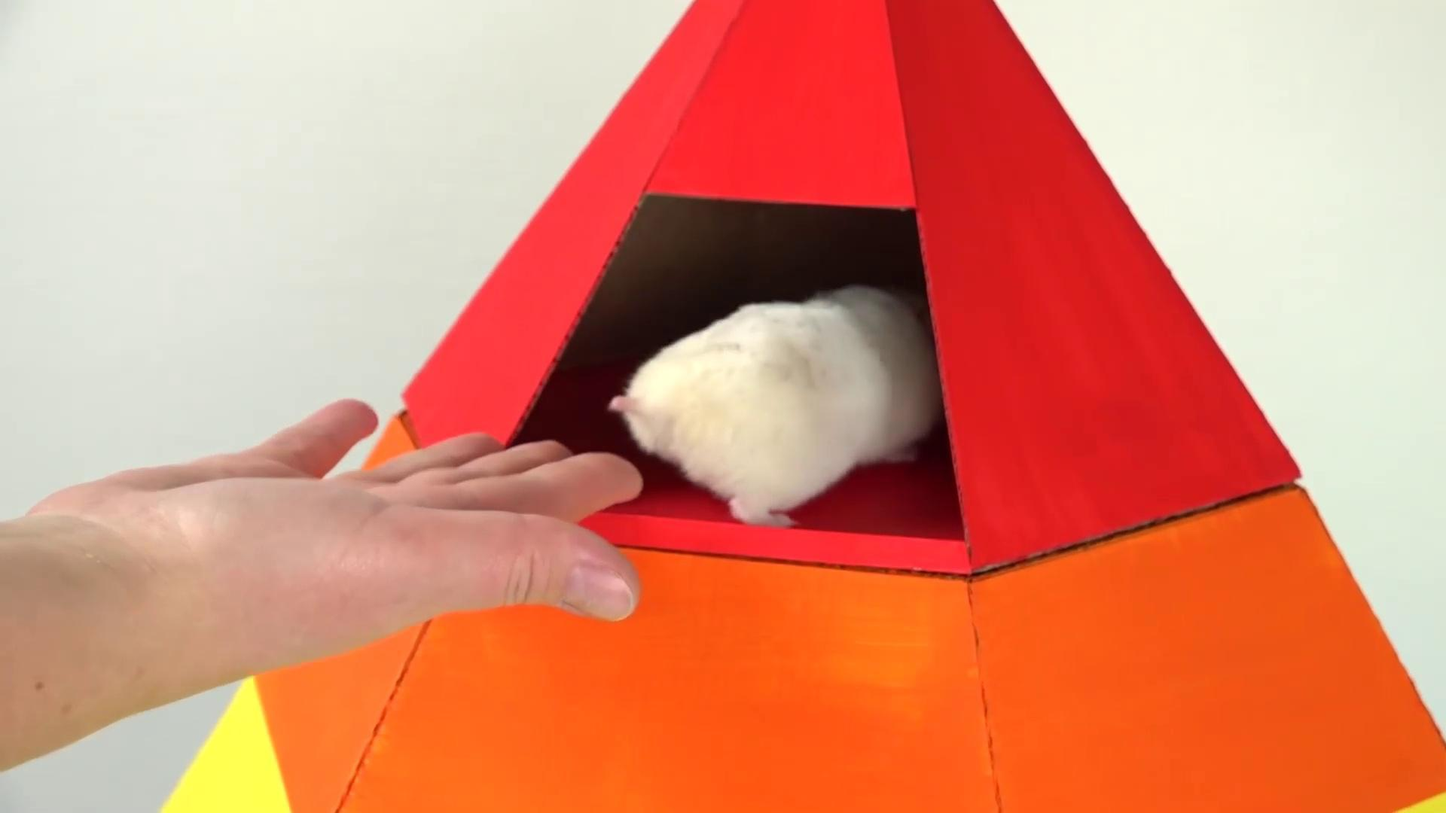rat: (609, 284, 939, 528)
